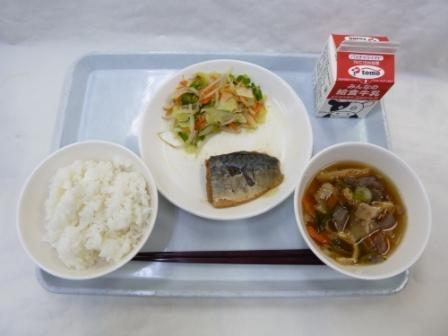Fish: (200, 147, 288, 215)
Milk: (310, 30, 405, 122)
Rice: (22, 152, 146, 279)
Soups: (300, 153, 420, 275)
salad with sauce: (161, 67, 264, 143)
